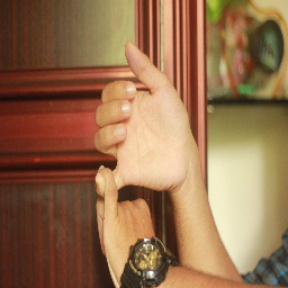S: (90, 37, 193, 278)
